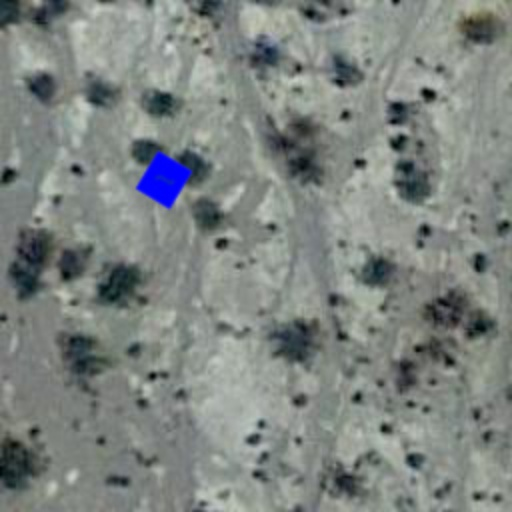rectangle: (132, 148, 196, 212)
